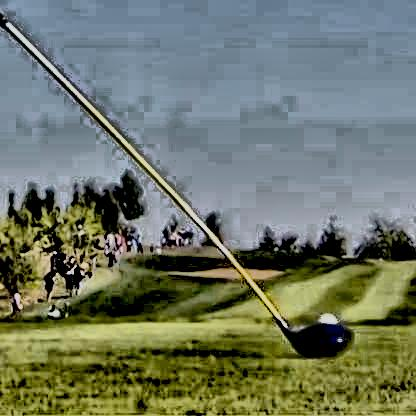golfball: (313, 312, 338, 336)
